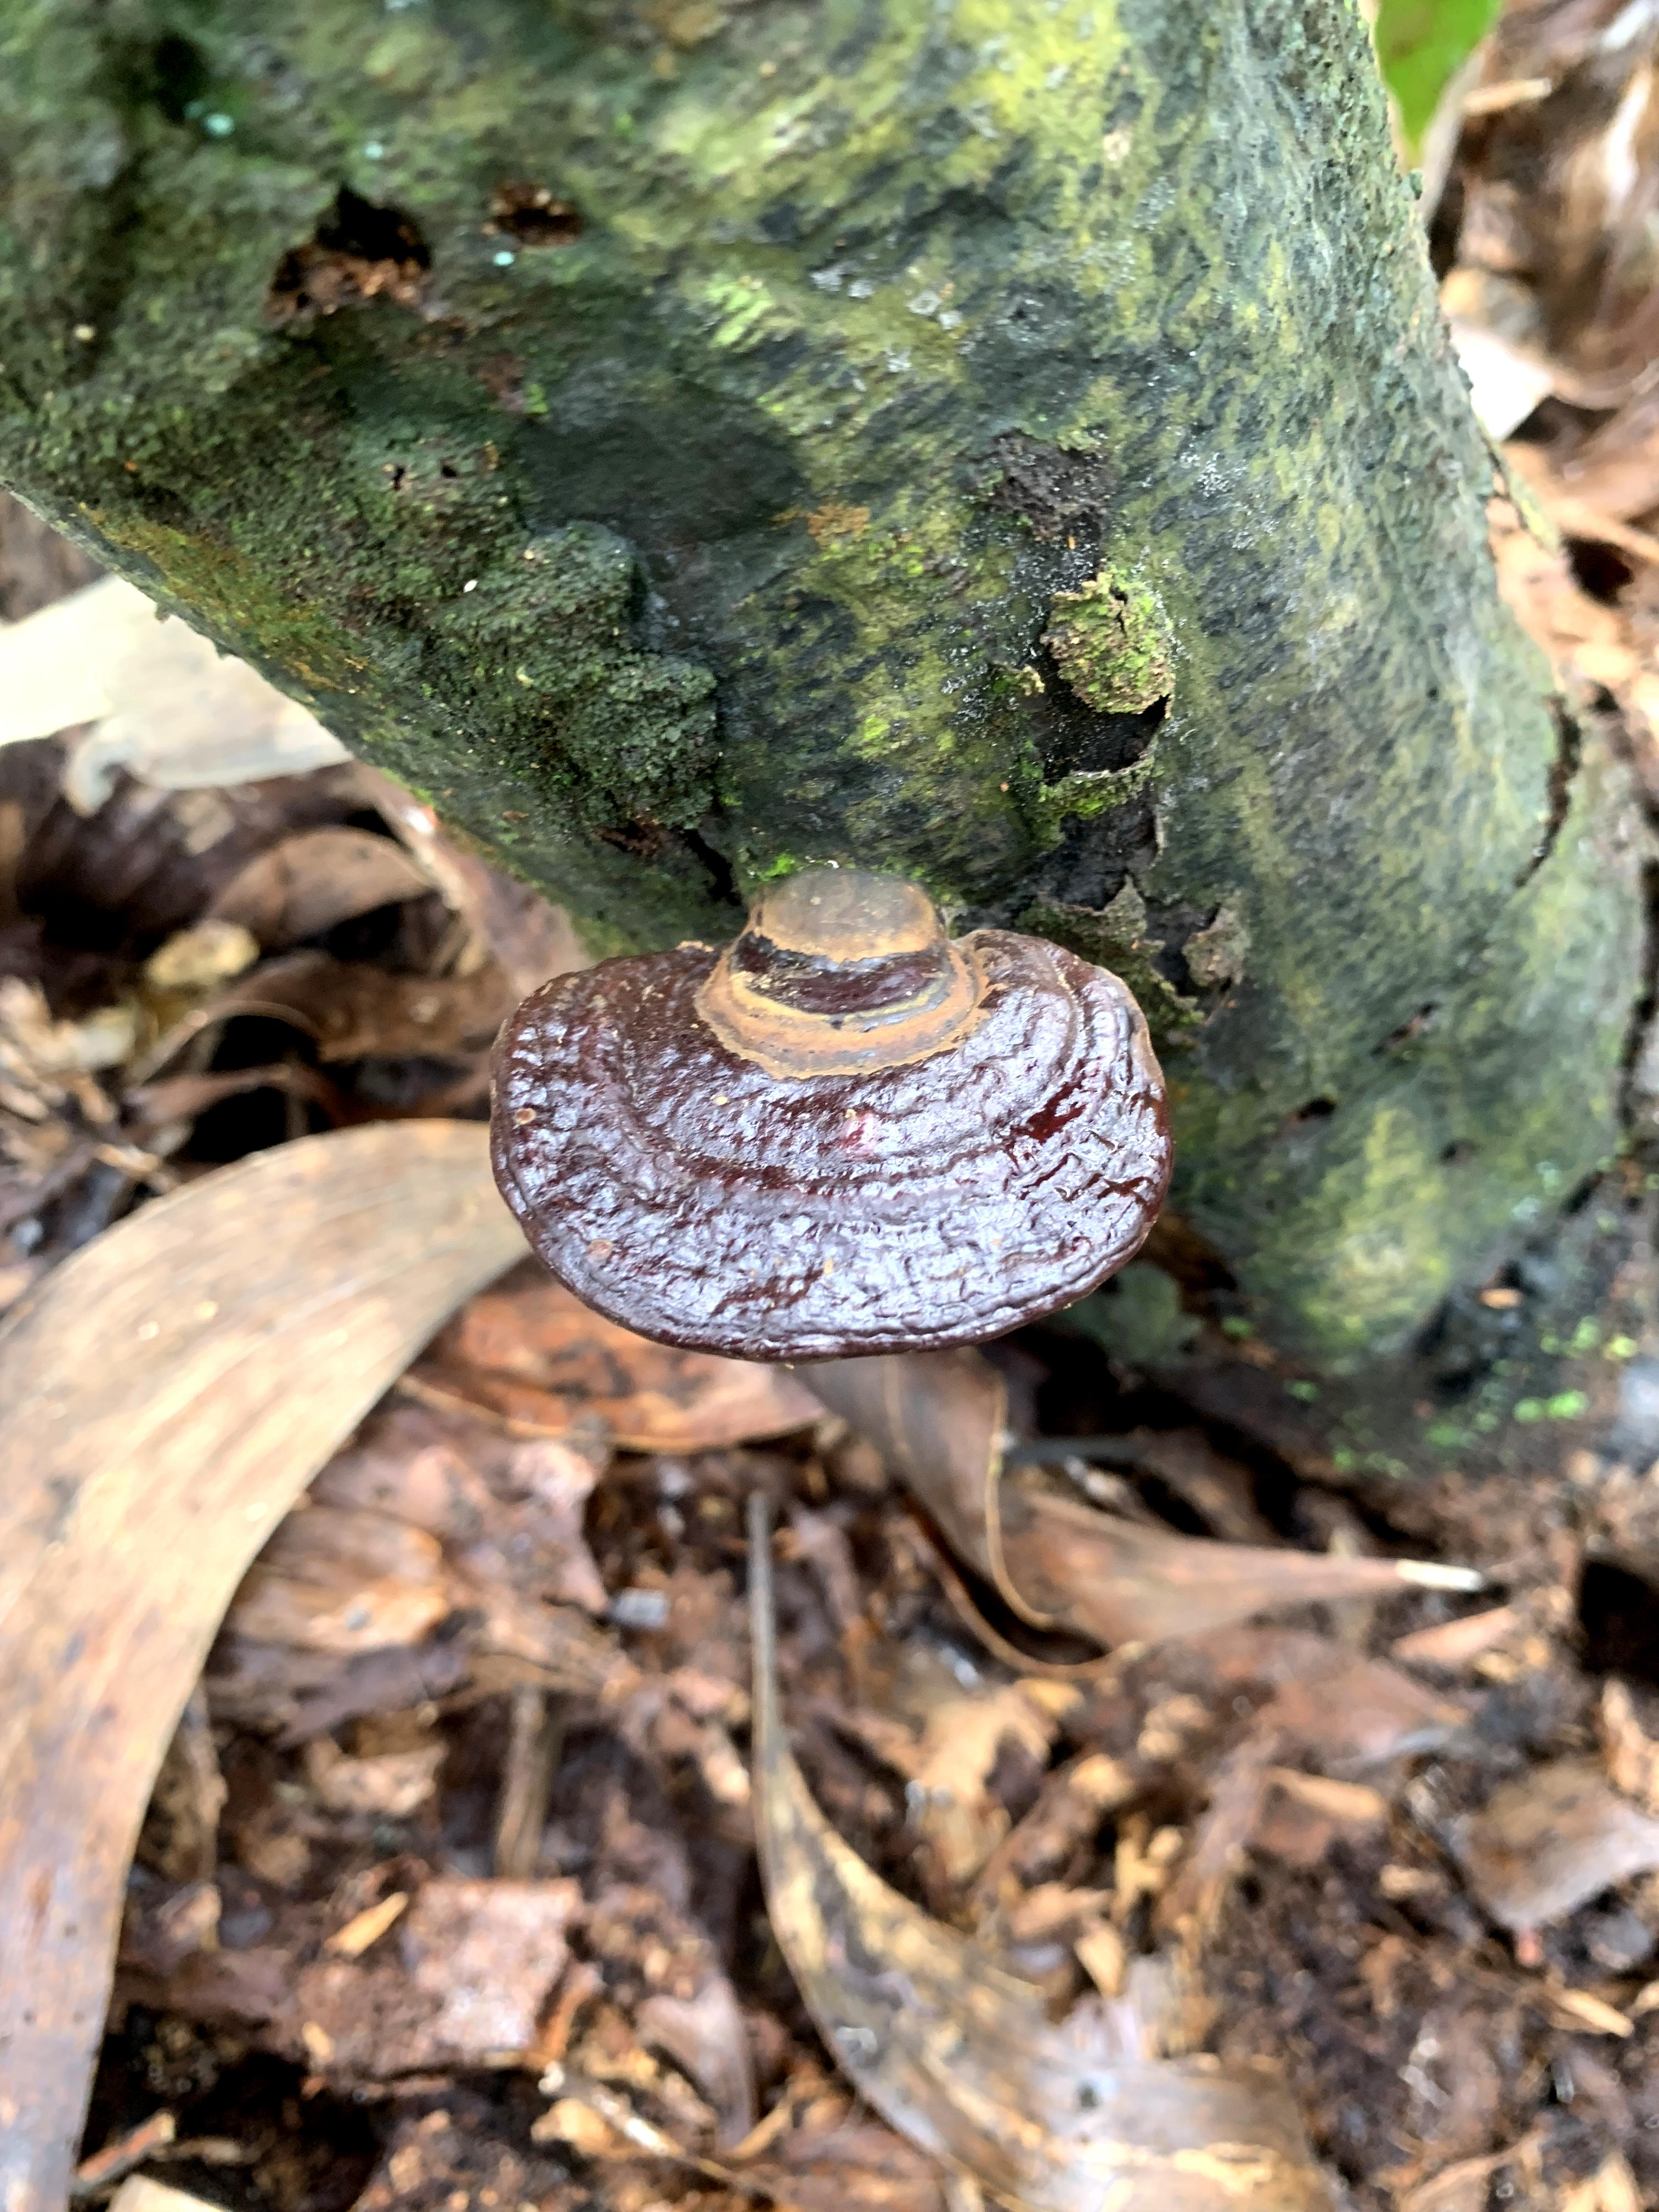Ganoderma - Fruit Body: (495, 928, 1180, 1353)
